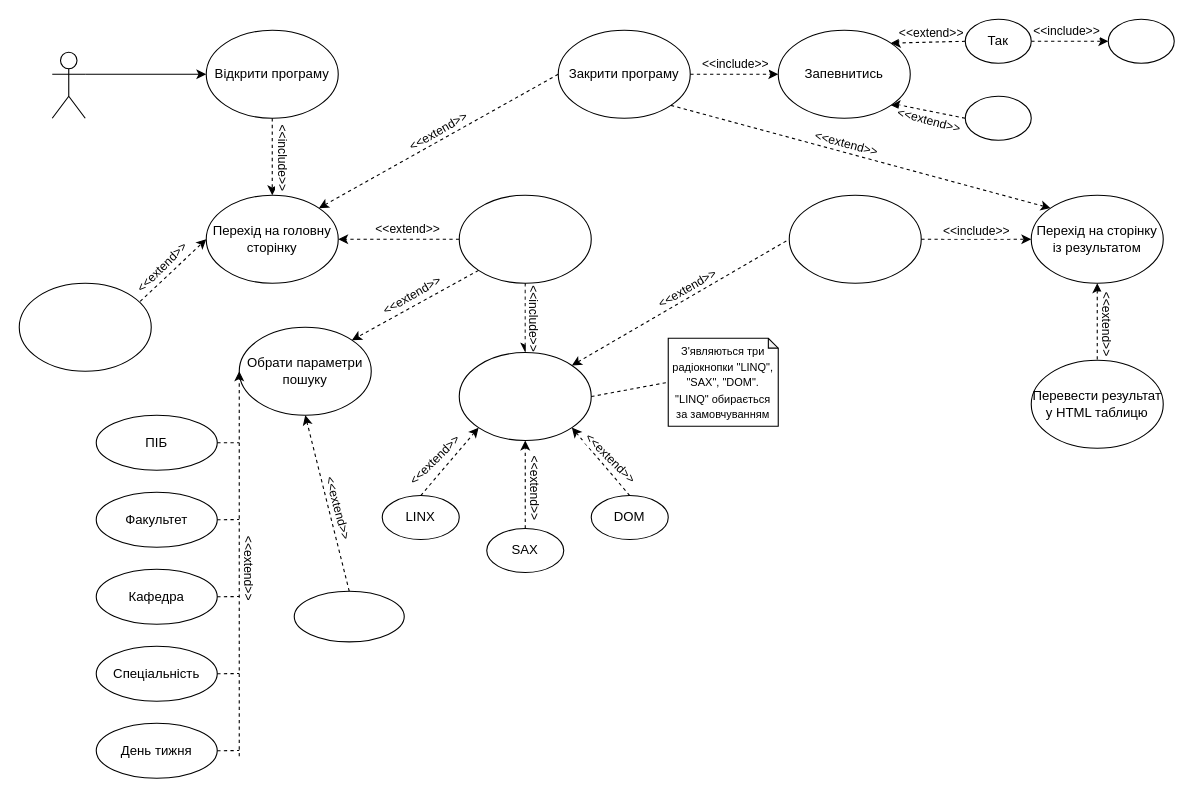
This 1194x798 diagram has some shape labels left out. The centre of each missing label's shape, as x and y in pixels:
"Вибрати файл" goes at (x=524, y=238).
"Вийти" goes at (x=1140, y=40).
"Користувач" goes at (x=68, y=84).
"Ні" goes at (x=997, y=117).
"Обрати технологію парсингу" goes at (x=524, y=396).
"Очистити вибрані параметри" goes at (x=348, y=616).
"Пошук" goes at (x=854, y=238).
"Інформація про програму" goes at (x=84, y=326).
